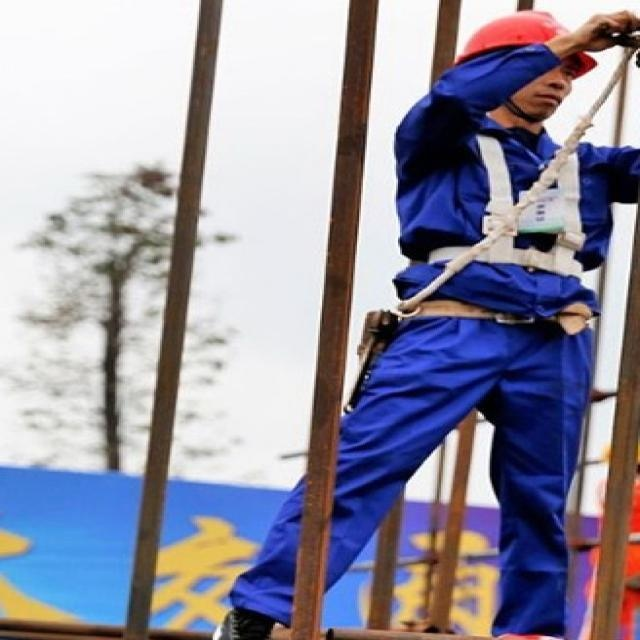Arnes_seguridad: (416, 104, 601, 282)
